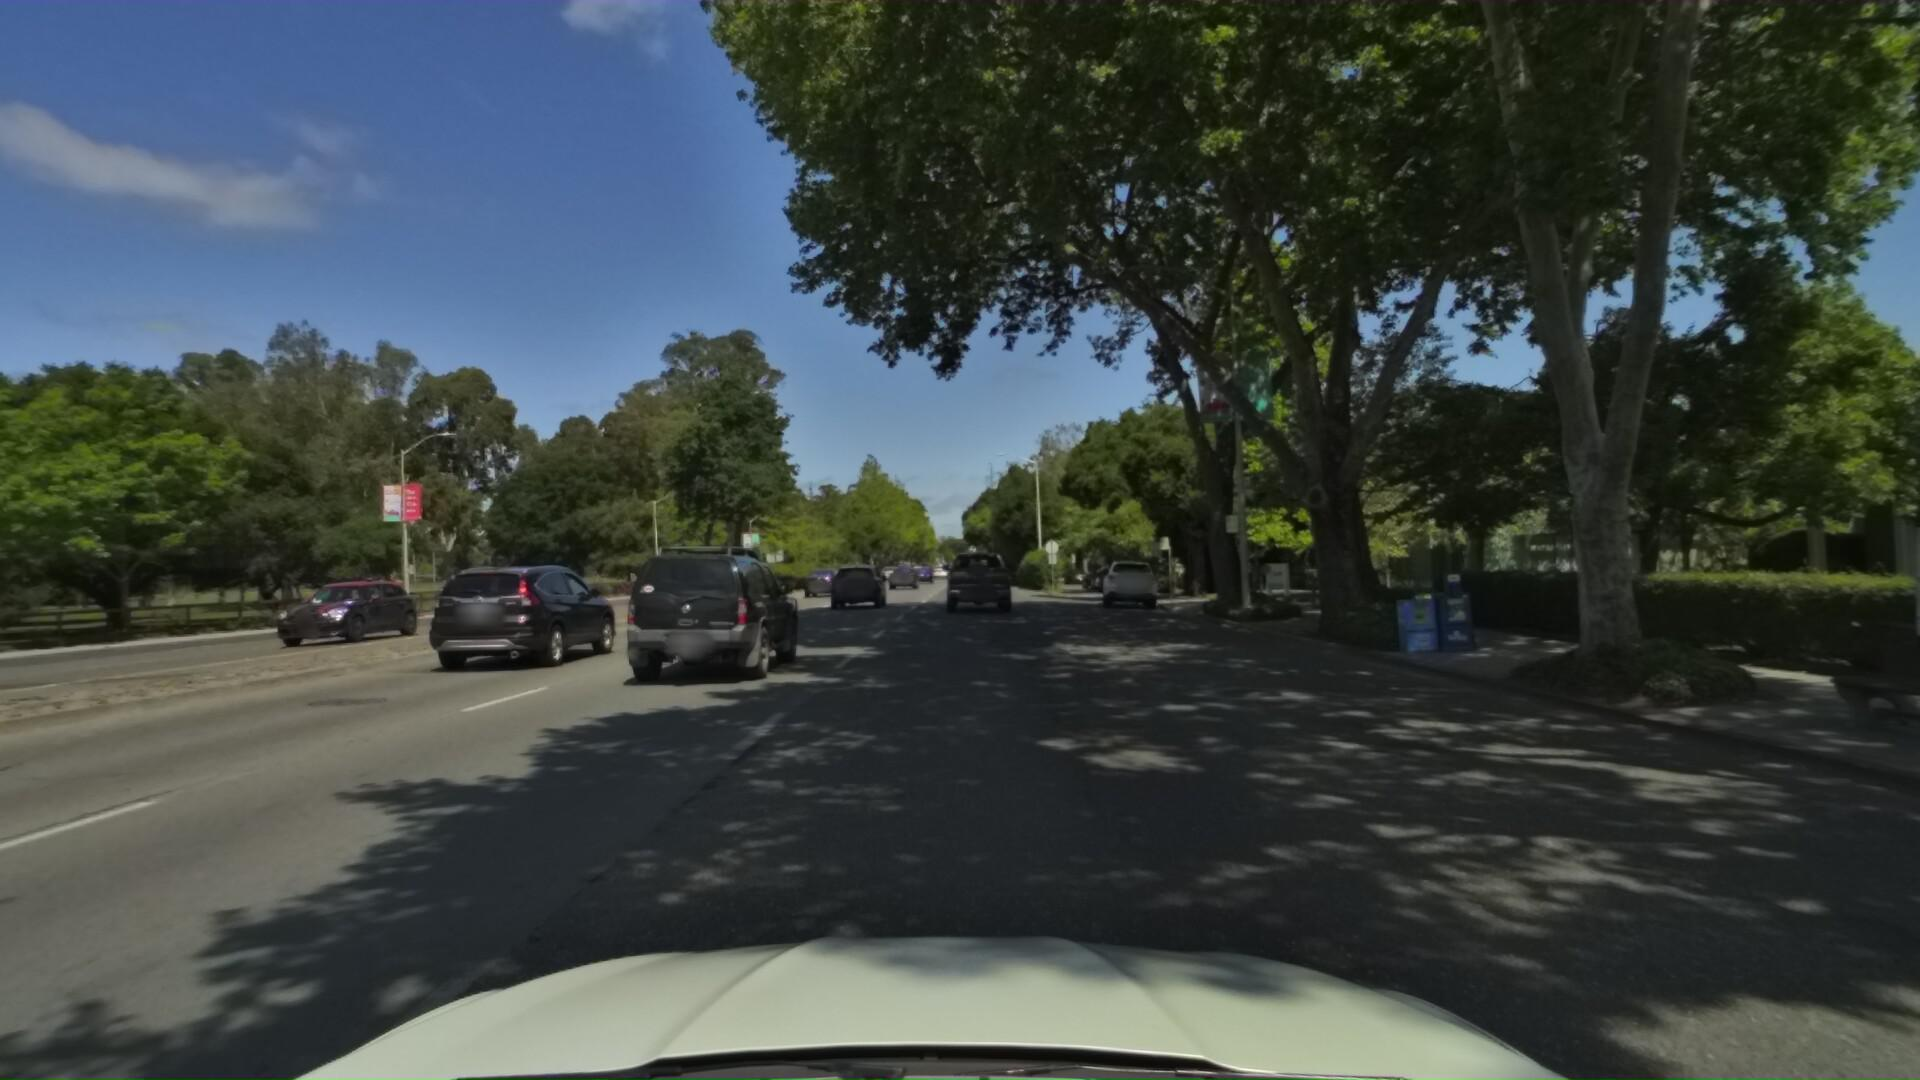car: (617, 531, 811, 695), (421, 556, 632, 680), (245, 556, 413, 645), (940, 541, 1015, 622), (703, 564, 786, 622), (1100, 545, 1163, 601), (825, 556, 887, 611), (802, 564, 849, 599), (1095, 556, 1130, 585), (885, 564, 918, 592), (1087, 560, 1118, 582), (910, 560, 935, 582)
